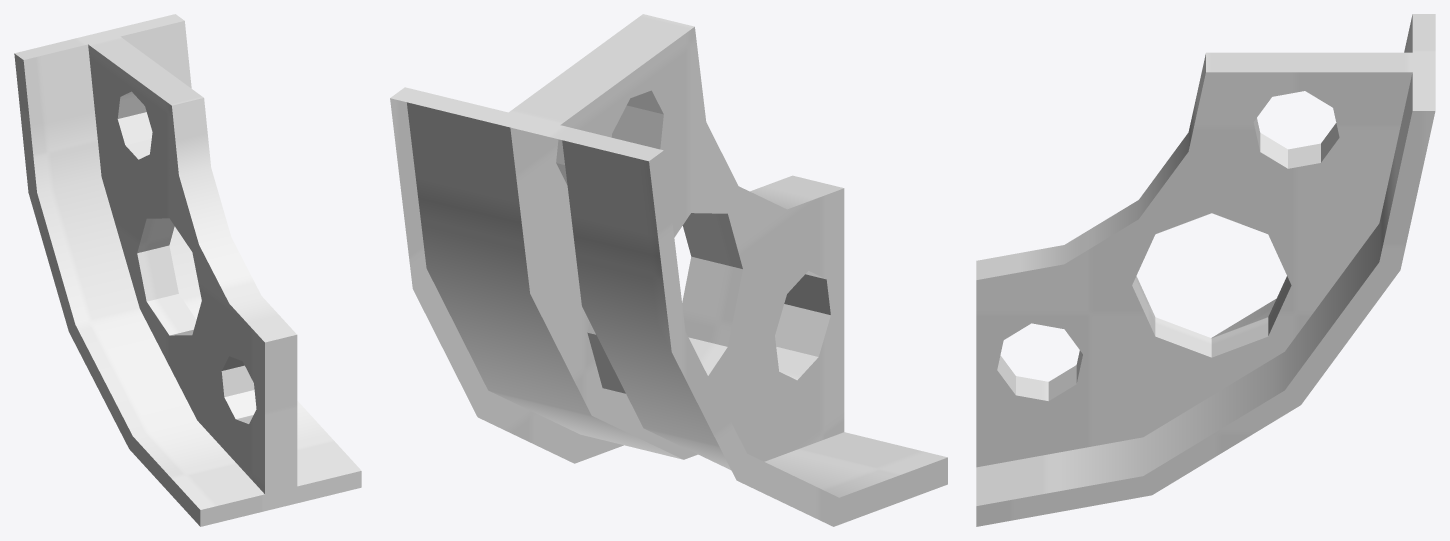
The model's file is enginehall_struss_corner_round.fbx.
The picture shows the model from 3 angles, left to right: view 1: azimuth 30°, elevation 25°; view 2: azimuth 150°, elevation 25°; view 3: azimuth 270°, elevation 25°; orthographic projection. The views are drawn at different scales.
Parts seen in each view (by area): view 1: enginehall_struss_corner_round; view 2: enginehall_struss_corner_round; view 3: enginehall_struss_corner_round.
Part boxes in pixels (x1=…): enginehall_struss_corner_round: x1=14, y1=14, x2=361, y2=526; enginehall_struss_corner_round: x1=390, y1=14, x2=947, y2=526; enginehall_struss_corner_round: x1=976, y1=14, x2=1435, y2=526.
Bounding box in the file's own units: 50 × 100 × 100.
